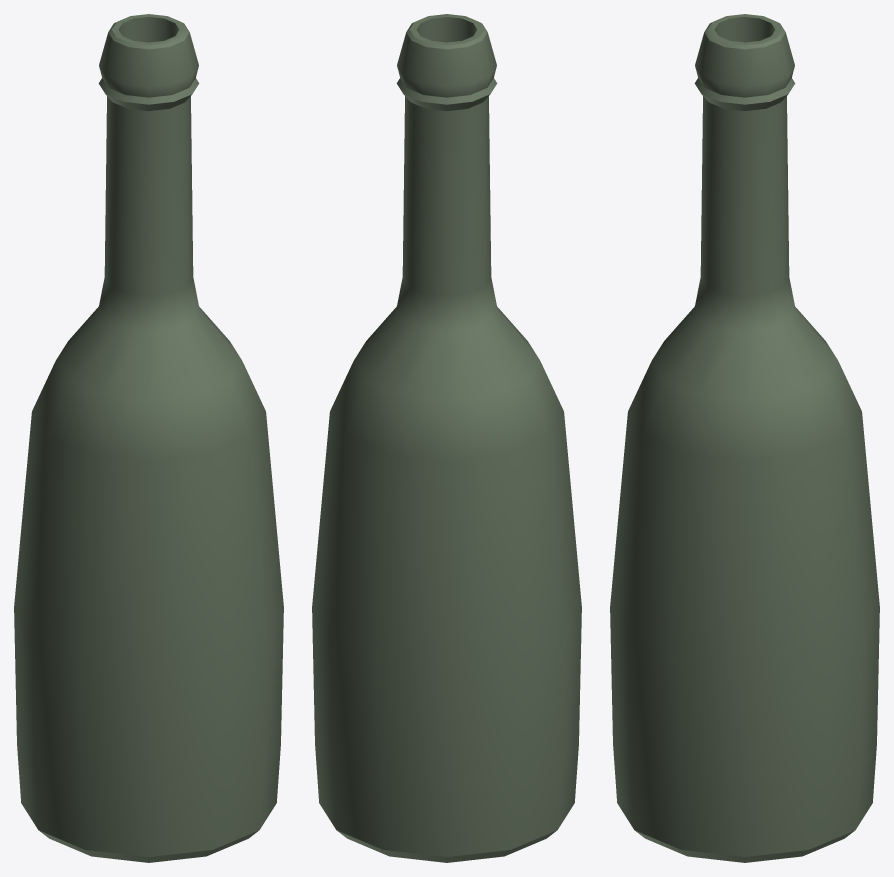
Rendered from bottle_01.fbx.
3 renders of one model, left to right at view 1: azimuth 30°, elevation 25°; view 2: azimuth 150°, elevation 25°; view 3: azimuth 270°, elevation 25°, orthographic.
Visible parts, largest first — view 1: bottle1; view 2: bottle1; view 3: bottle1.
Boxes of the visible parts, bbox=[...] form: bottle1: bbox=[14, 14, 283, 862]; bottle1: bbox=[312, 14, 581, 862]; bottle1: bbox=[610, 14, 879, 862].
Size of the model in its own units: 0.1453 by 0.466 by 0.1453.
